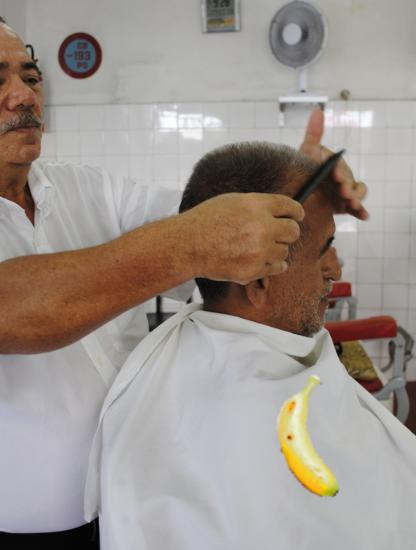Banana: (249, 378, 374, 503)
